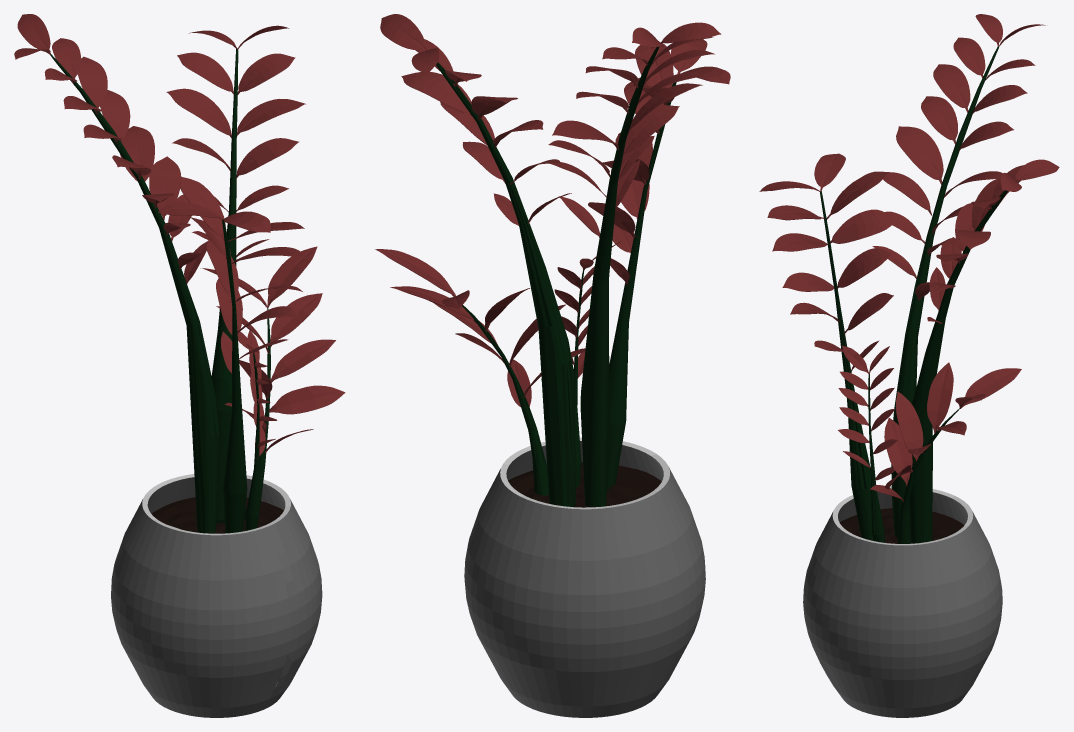
File: Pot.FBX
The picture shows the model from 3 angles, left to right: view 1: azimuth 30°, elevation 25°; view 2: azimuth 150°, elevation 25°; view 3: azimuth 270°, elevation 25°; orthographic projection. The views are drawn at different scales.
Parts seen in each view (by area): view 1: Pot; view 2: Pot; view 3: Pot.
Boxes of the visible parts, left/top/right/bottom form: Pot: left=14, top=14, right=345, bottom=717; Pot: left=375, top=14, right=730, bottom=717; Pot: left=759, top=14, right=1059, bottom=717.
Size of the model in its own units: 98.18 by 202 by 89.32.
